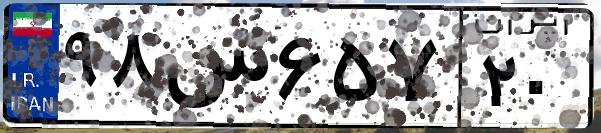0: (525, 38, 570, 115)
2: (475, 38, 525, 113)
5: (330, 28, 385, 110)
6: (270, 28, 330, 110)
7: (385, 28, 445, 110)
8: (110, 28, 158, 98)
9: (57, 26, 110, 100)
س: (158, 20, 270, 120)
